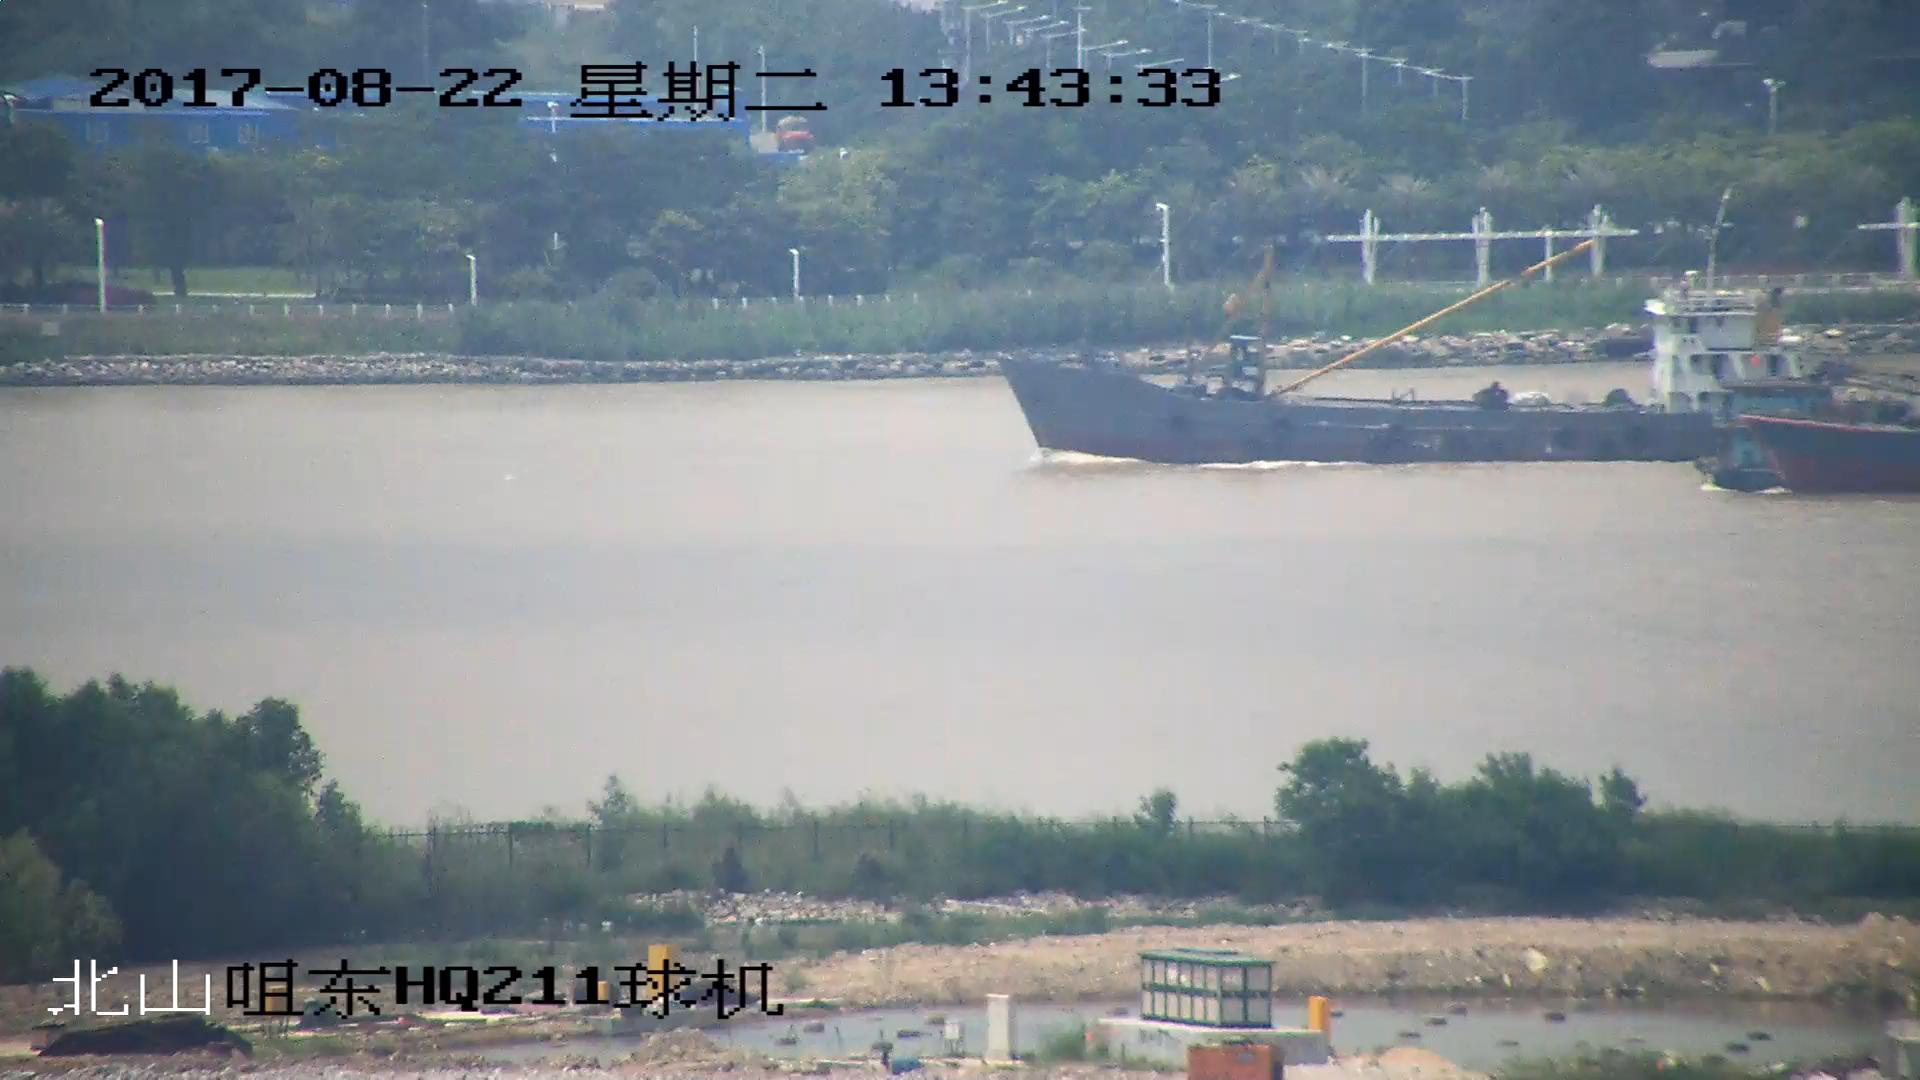fishing boat: (997, 212, 1823, 465), (1716, 371, 1920, 495)
